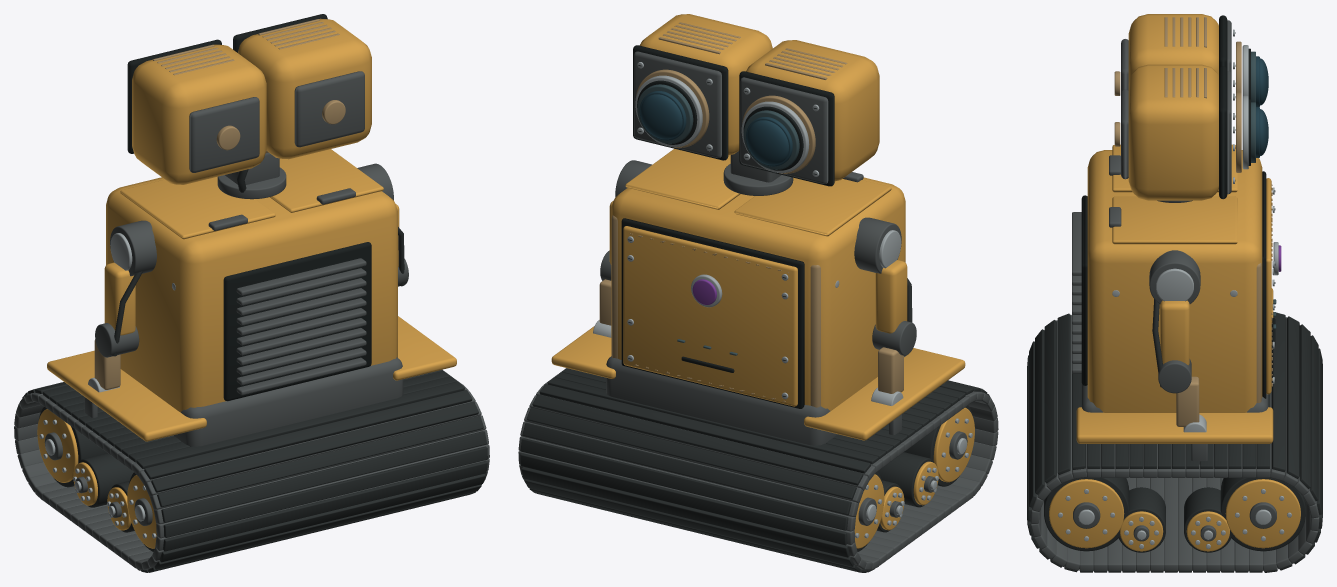
File: cloud-robot-v1.glb
The picture shows the model from 3 angles, left to right: view 1: azimuth 30°, elevation 25°; view 2: azimuth 150°, elevation 25°; view 3: azimuth 270°, elevation 25°; orthographic projection. The views are drawn at different scales.
Parts seen in each view (by area): view 1: RobotBody_Geometry, RobotHead_Geometry, RobotArm_L_Geometry, TrackLink_C_40, TrackLink_C_41, TrackLink_C_39, TrackLink_C_42, TrackLink_C_38, TrackLink_C_43, TrackLink_C_44, TrackLink_C_37, RobotWheel_L_1_Geometry (+8 smaller); view 2: RobotBody_Geometry, RobotHead_Geometry, RobotEyes_Geometry, RobotArm_L_Geometry, TrackLink_C_20, TrackLink_C_19, TrackLink_C_21, TrackLink_C_22, TrackLink_C_18, TrackLink_C_23, TrackLink_C_17, TrackLink_C_16 (+9 smaller); view 3: RobotBody_Geometry, RobotHead_Geometry, RobotArm_R_Geometry, RobotWheel_R_0_Geometry, RobotWheel_R_1_Geometry, RobotEyes_Geometry, TrackLink_C_38, TrackLink_C_22, RobotWheel_R_3_Geometry, RobotWheel_R_2_Geometry, TrackLink_C_39, TrackLink_C_23 (+28 smaller).
Part boxes in pixels (x1,y1,x2,y2): RobotBody_Geometry: (47, 149, 482, 523); RobotHead_Geometry: (127, 14, 371, 184); RobotArm_L_Geometry: (84, 220, 156, 417); TrackLink_C_40: (150, 415, 486, 510); TrackLink_C_41: (154, 429, 488, 523); TrackLink_C_39: (145, 401, 481, 496); TrackLink_C_42: (156, 444, 489, 538); TrackLink_C_38: (138, 390, 475, 485); TrackLink_C_43: (155, 458, 489, 551); TrackLink_C_44: (152, 471, 487, 562); TrackLink_C_37: (132, 381, 468, 476); RobotWheel_L_1_Geometry: (37, 406, 106, 487); RobotBody_Geometry: (525, 148, 965, 515); RobotHead_Geometry: (633, 14, 879, 186); RobotEyes_Geometry: (635, 69, 815, 173); RobotArm_L_Geometry: (854, 217, 916, 435); TrackLink_C_20: (520, 421, 858, 516); TrackLink_C_19: (518, 436, 855, 531); TrackLink_C_21: (524, 407, 863, 503); TrackLink_C_22: (529, 394, 869, 490); TrackLink_C_18: (518, 451, 854, 545); TrackLink_C_23: (536, 384, 875, 480); TrackLink_C_17: (519, 464, 857, 557); TrackLink_C_16: (522, 476, 861, 566); RobotBody_Geometry: (1072, 144, 1281, 471); RobotHead_Geometry: (1114, 14, 1235, 200); RobotArm_R_Geometry: (1149, 250, 1207, 464); RobotWheel_R_0_Geometry: (1044, 477, 1129, 551); RobotWheel_R_1_Geometry: (1220, 477, 1305, 551); RobotEyes_Geometry: (1236, 41, 1268, 172); TrackLink_C_38: (1057, 313, 1073, 483); TrackLink_C_22: (1283, 316, 1299, 486); RobotWheel_R_3_Geometry: (1184, 487, 1231, 552); RobotWheel_R_2_Geometry: (1118, 487, 1165, 552); TrackLink_C_39: (1044, 320, 1061, 490); TrackLink_C_23: (1270, 312, 1285, 480).
Size of the model in its own units: 0.764 by 0.986 by 0.602.
